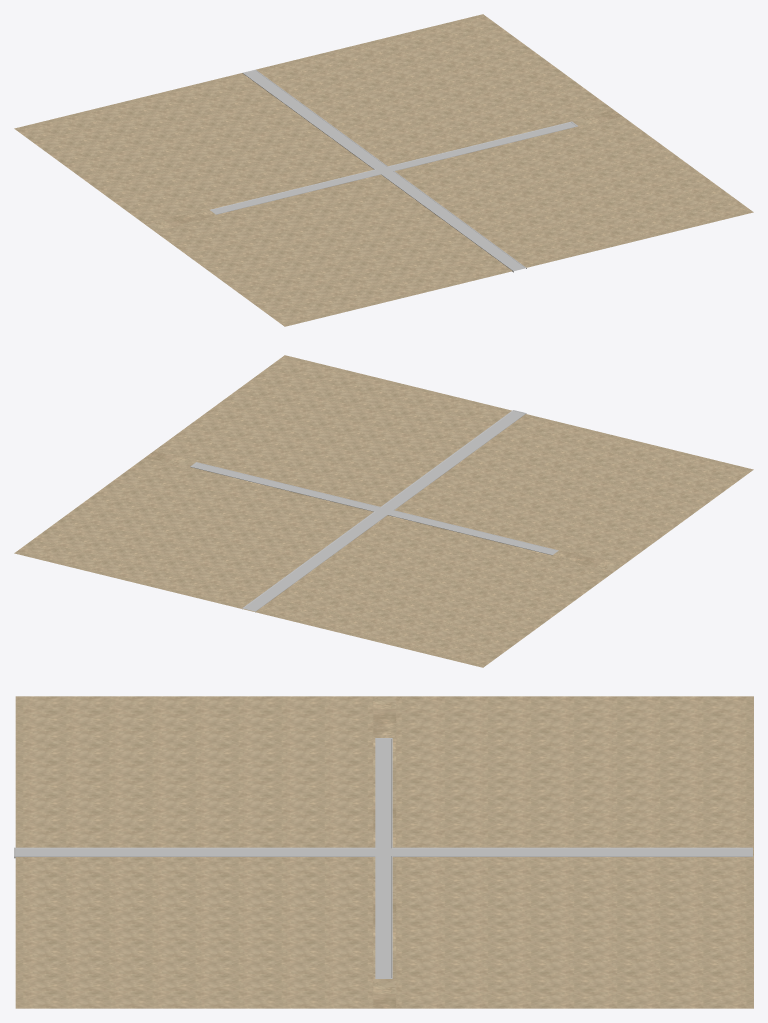
The model's file is MDL_Environment_TownExterior01_Diji01_0D13.fbx.
3 views of the same model, one above another, from view 1: azimuth 30°, elevation 25°; view 2: azimuth 150°, elevation 25°; view 3: azimuth 270°, elevation 25° (orthographic). The views are drawn at different scales.
Parts seen in each view (by area): view 1: Plane003, Plane001; view 2: Plane003, Plane001; view 3: Plane003, Plane001.
Part boxes in pixels (x1,y1,x2,y2): Plane003: (14, 14, 753, 326); Plane001: (210, 69, 577, 272); Plane003: (14, 355, 753, 667); Plane001: (190, 410, 558, 612); Plane003: (15, 696, 753, 1008); Plane001: (14, 738, 752, 978).
Size of the model in its own units: 1000 by 2.43 by 1002.
